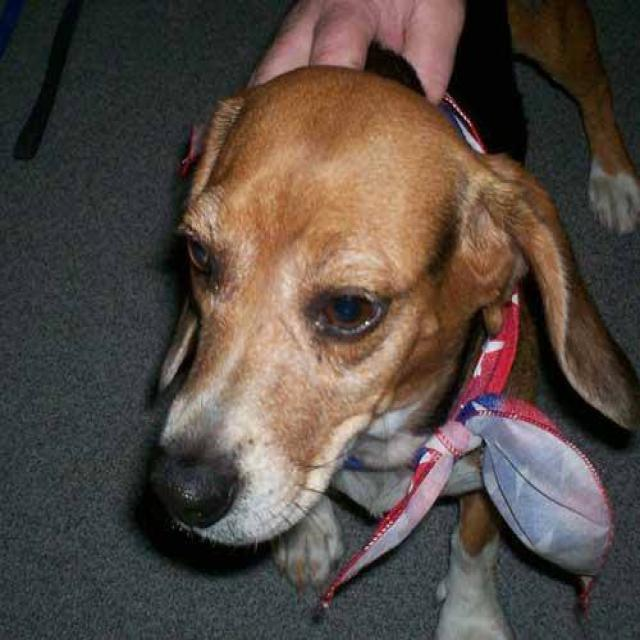dog: (142, 38, 639, 638)
